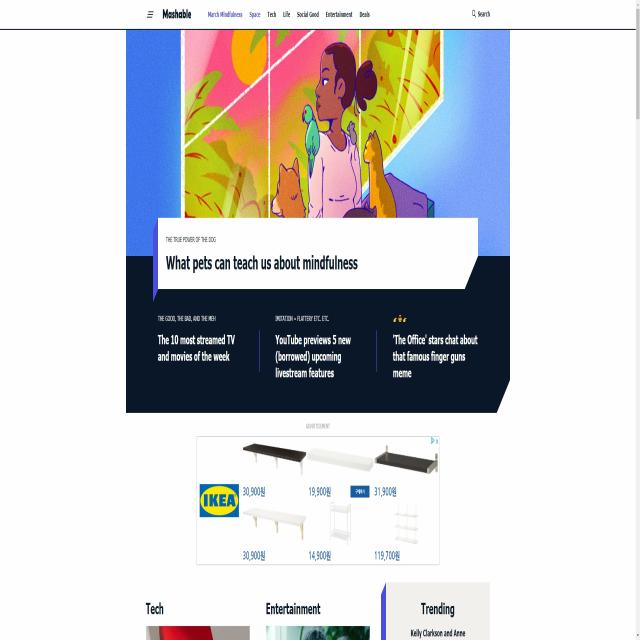tab-bar: (144, 4, 376, 26)
